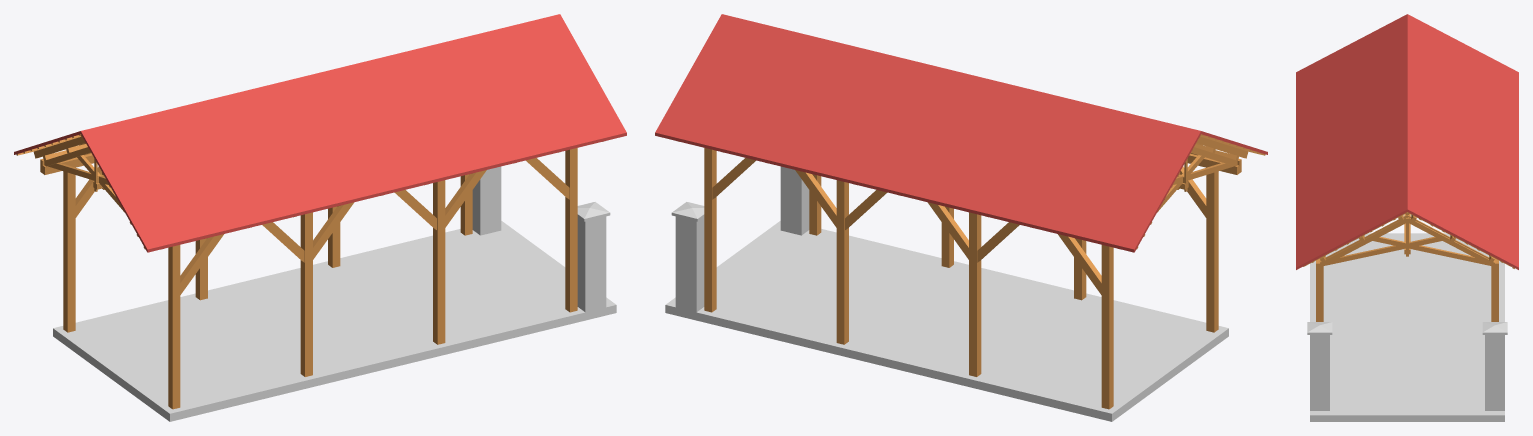
File: Beallo.glb
3 views of the same model, side by side, from view 1: azimuth 30°, elevation 25°; view 2: azimuth 150°, elevation 25°; view 3: azimuth 270°, elevation 25° (orthographic). The views are drawn at different scales.
Parts seen in each view (by area): view 1: Basic Roof Cerépfedés [372266], Floor Generic 150mm [345445], Tegla piller1 Tegla piller [366826], M_Rectangular Column Oszlop 150 x 150mm [424568], M_Rectangular Column Oszlop 150 x 150mm [345907], M_Rectangular Column Oszlop 150 x 150mm [345906], M_Rectangular Column Oszlop 150 x 150mm [361958], M_Rectangular Column Oszlop 150 x 150mm [424554], Tegla piller Tegla piller [361408], Woodenl Beams Könyökfa 100x150 [363317], Woodenl Beams Könyökfa 100x150 [363316], Woodenl Beams Könyökfa 100x150 [363314]; view 2: Basic Roof Cerépfedés [372266], Floor Generic 150mm [345445], Tegla piller Tegla piller [361408], M_Rectangular Column Oszlop 150 x 150mm [361958], M_Rectangular Column Oszlop 150 x 150mm [345502], M_Rectangular Column Oszlop 150 x 150mm [345499], M_Rectangular Column Oszlop 150 x 150mm [424568], Tegla piller1 Tegla piller [366826], M_Rectangular Column Oszlop 150 x 150mm [345505], Woodenl Beams Könyökfa 100x150 [363121], Woodenl Beams Könyökfa 100x150 [363112], Woodenl Beams Könyökfa 100x150 [350794] (+1 smaller); view 3: Basic Roof Cerépfedés [372266], Floor Generic 150mm [345445], Tegla piller Tegla piller [361408], Tegla piller1 Tegla piller [366826], Woodenl Beams Kereszt fogópár 100x30 [498939], Woodenl Beams Kereszt fogópár 100x30 [498940], Woodenl Beams Fogópár 50x100 [501989], Woodenl Beams Fogópár 50x100 [501991], M_Rectangular Column Oszlop 150 x 150mm [345499], M_Rectangular Column Oszlop 150 x 150mm [345906], Basic Roof Generic - 400mm [372082], Basic Roof Generic - 400mm [372243].
Part boxes in pixels (bbox=[...]): Basic Roof Cerépfedés [372266]: bbox=[14, 14, 626, 252]; Floor Generic 150mm [345445]: bbox=[53, 221, 616, 421]; Tegla piller1 Tegla piller [366826]: bbox=[577, 216, 606, 312]; M_Rectangular Column Oszlop 150 x 150mm [424568]: bbox=[168, 245, 180, 409]; M_Rectangular Column Oszlop 150 x 150mm [345907]: bbox=[433, 180, 445, 344]; M_Rectangular Column Oszlop 150 x 150mm [345906]: bbox=[565, 148, 577, 312]; M_Rectangular Column Oszlop 150 x 150mm [361958]: bbox=[63, 171, 75, 332]; M_Rectangular Column Oszlop 150 x 150mm [424554]: bbox=[300, 212, 312, 376]; Tegla piller Tegla piller [361408]: bbox=[472, 166, 501, 235]; Woodenl Beams Könyökfa 100x150 [363317]: bbox=[180, 234, 223, 294]; Woodenl Beams Könyökfa 100x150 [363316]: bbox=[445, 170, 486, 227]; Woodenl Beams Könyökfa 100x150 [363314]: bbox=[313, 202, 353, 259]; Basic Roof Cerépfedés [372266]: bbox=[655, 14, 1267, 252]; Floor Generic 150mm [345445]: bbox=[665, 221, 1228, 421]; Tegla piller Tegla piller [361408]: bbox=[675, 216, 704, 312]; M_Rectangular Column Oszlop 150 x 150mm [361958]: bbox=[1101, 245, 1113, 409]; M_Rectangular Column Oszlop 150 x 150mm [345502]: bbox=[836, 180, 848, 344]; M_Rectangular Column Oszlop 150 x 150mm [345499]: bbox=[704, 148, 716, 312]; M_Rectangular Column Oszlop 150 x 150mm [424568]: bbox=[1206, 171, 1218, 332]; Tegla piller1 Tegla piller [366826]: bbox=[780, 166, 809, 235]; M_Rectangular Column Oszlop 150 x 150mm [345505]: bbox=[969, 212, 981, 376]; Woodenl Beams Könyökfa 100x150 [363121]: bbox=[1058, 234, 1101, 294]; Woodenl Beams Könyökfa 100x150 [363112]: bbox=[795, 170, 836, 227]; Woodenl Beams Könyökfa 100x150 [350794]: bbox=[928, 202, 968, 259]; Basic Roof Cerépfedés [372266]: bbox=[1296, 14, 1518, 269]; Floor Generic 150mm [345445]: bbox=[1310, 233, 1504, 421]; Tegla piller Tegla piller [361408]: bbox=[1485, 335, 1504, 410]; Tegla piller1 Tegla piller [366826]: bbox=[1310, 335, 1329, 410]; Woodenl Beams Kereszt fogópár 100x30 [498939]: bbox=[1373, 236, 1495, 265]; Woodenl Beams Kereszt fogópár 100x30 [498940]: bbox=[1319, 236, 1441, 265]; Woodenl Beams Fogópár 50x100 [501989]: bbox=[1320, 217, 1407, 267]; Woodenl Beams Fogópár 50x100 [501991]: bbox=[1407, 217, 1494, 266]; M_Rectangular Column Oszlop 150 x 150mm [345499]: bbox=[1491, 273, 1498, 321]; M_Rectangular Column Oszlop 150 x 150mm [345906]: bbox=[1316, 273, 1323, 321]; Basic Roof Generic - 400mm [372082]: bbox=[1307, 322, 1332, 334]; Basic Roof Generic - 400mm [372243]: bbox=[1482, 322, 1507, 334].
Bounding box in the file's own units: 9.23 × 4.7 × 4.45.
